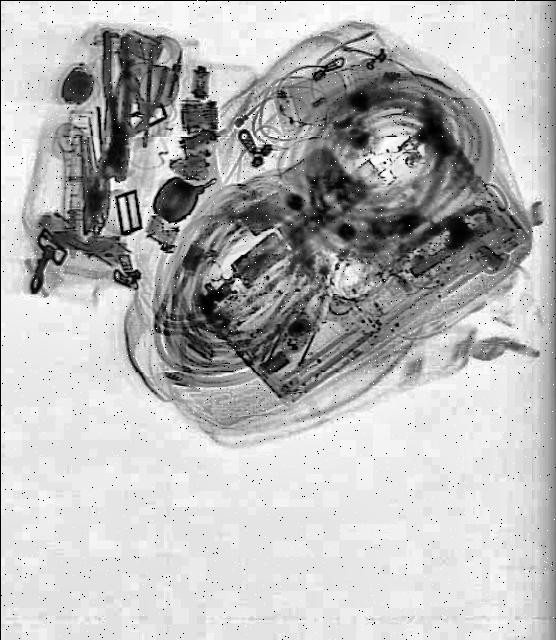Pliers: (101, 32, 137, 178)
